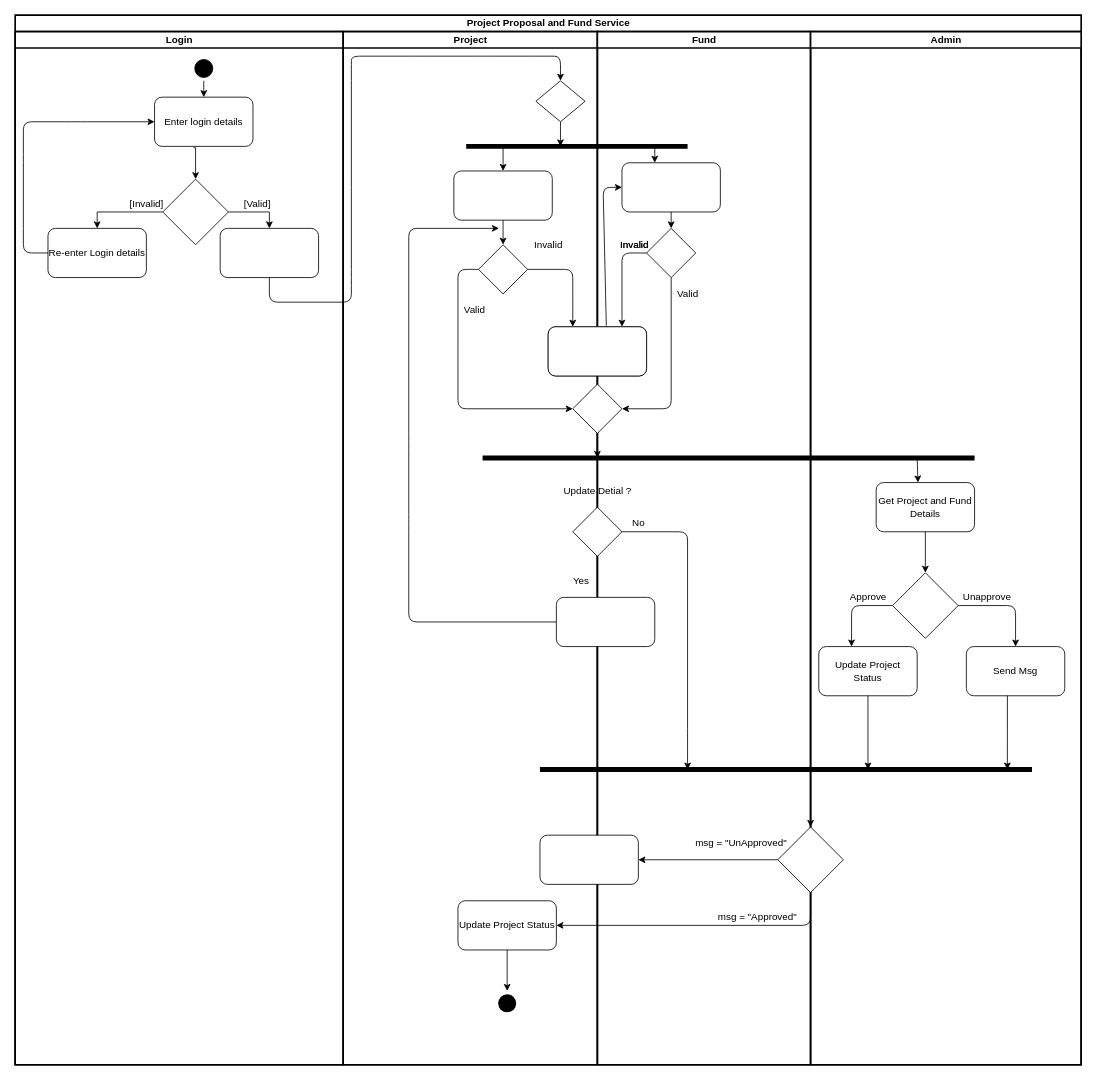
Image size: 1096x1079. Some labels were removed from this diagram. The centre of each missing label's shape, as x and y in pixels:
Delete Project and funds: (588,859)
Display an error "Re-enter details": (597,351)
Insert Fund Details: (670,187)
Insert Project Details: (502,195)
Update Projects and funds: (605,622)
Valid User: (269,253)
